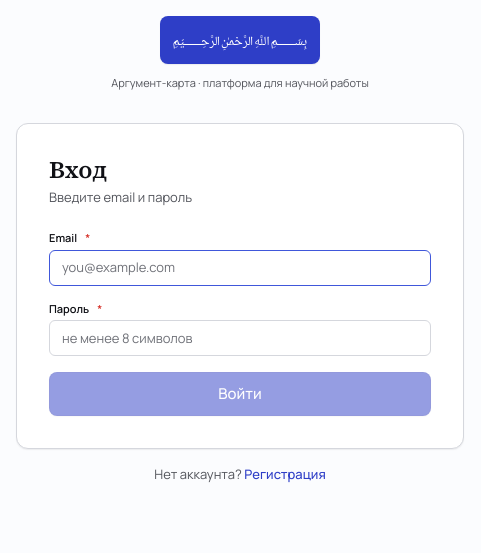
Test: LoginPage › показывает локализованную 401 ошибку «Неверный email или пароль»
In the field labelled "Email *": (240, 268) [62,258,418,277], type "wrong@x.com"
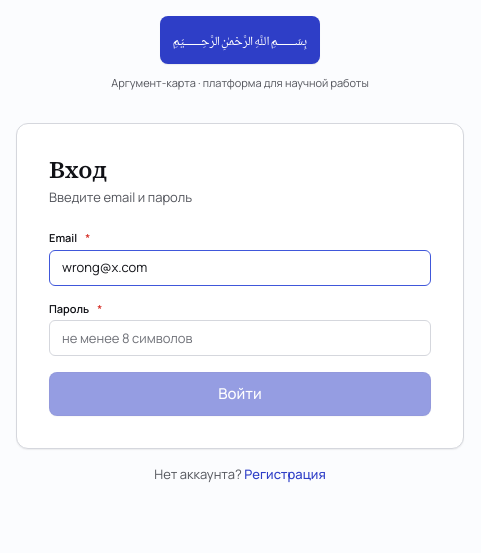
In the password field labelled "Пароль *": (240, 338) [62,329,418,348], type "wrongpass"
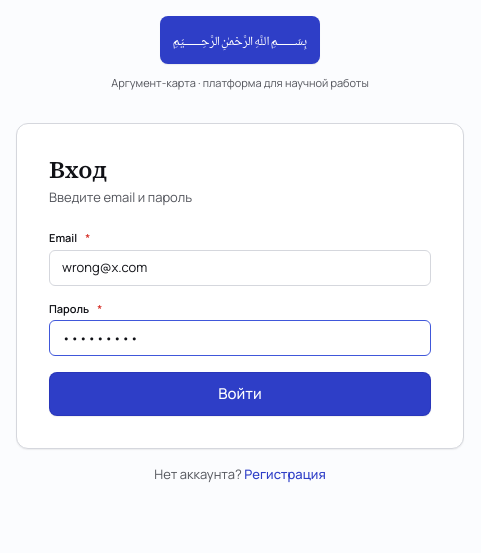
Click the button "Войти": (240, 394) [49,372,431,416]
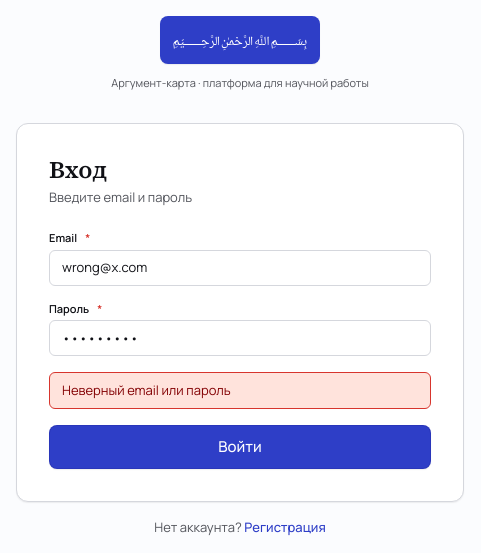
Expected: the message reads "Неверный email или пароль", [62,381,231,399]
